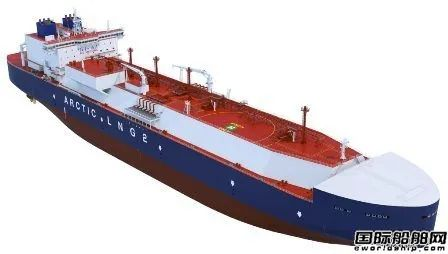Cargoship: (1, 12, 440, 243)
